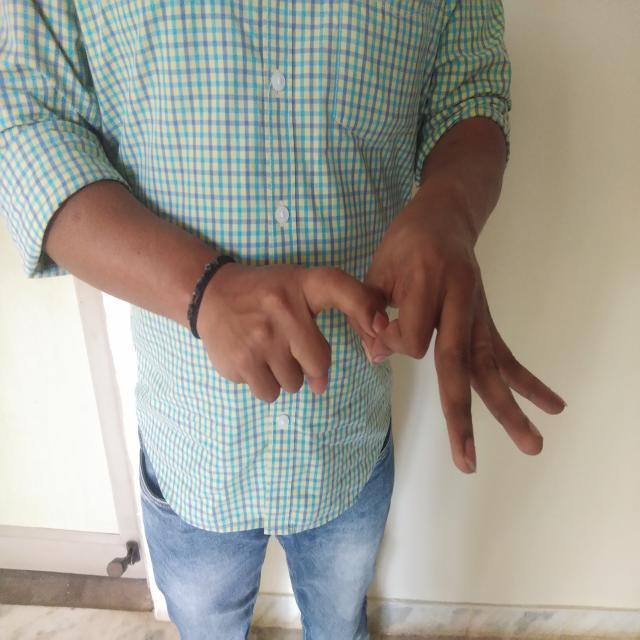Q: (180, 190, 598, 509)
